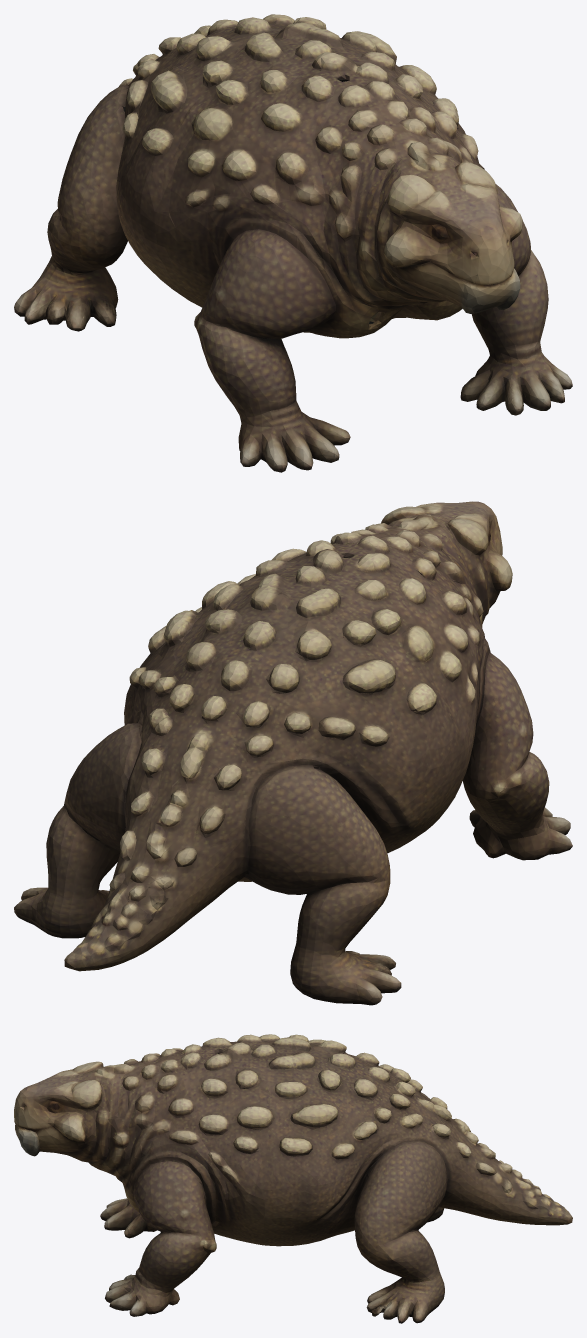
3 renders of one model, top to bottom at view 1: azimuth 30°, elevation 25°; view 2: azimuth 150°, elevation 25°; view 3: azimuth 270°, elevation 25°, orthographic. The views are drawn at different scales.
Parts seen in each view (by area): view 1: world; view 2: world; view 3: world.
Part boxes in pixels (box(x1,y1,x2,y2)): world: box(14, 14, 572, 472); world: box(14, 501, 572, 1005); world: box(14, 1034, 572, 1323).
Size of the model in its own units: 0.5441 by 0.4327 by 1.
Materials: 1 (1 with a texture image).
